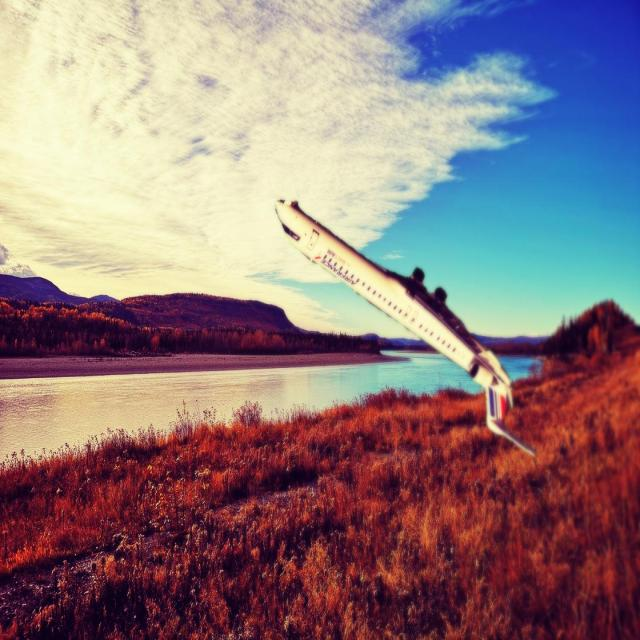airplane: (274, 197, 536, 456)
